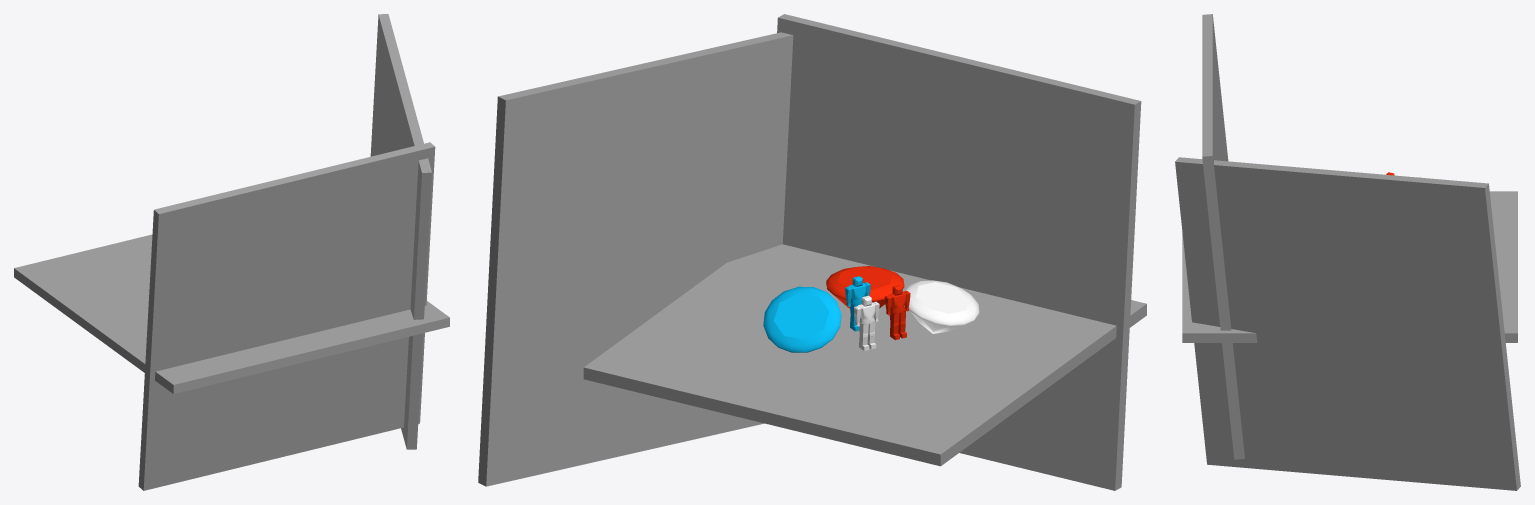
The model's file is MATO_TE.fbx.
The picture shows the model from 3 angles, left to right: view 1: azimuth 30°, elevation 25°; view 2: azimuth 150°, elevation 25°; view 3: azimuth 270°, elevation 25°; orthographic projection. The views are drawn at different scales.
Parts seen in each view (by area): view 1: pCube3, pCube2, pCube4; view 2: pCube4, pCube3, pCube2, pCylinder5, pCylinder4, pCylinder3, pCube6, pCube5; view 3: pCube4, pCube3, pCube2.
Boxes of the visible parts, box(x1,y1,x2,y2) form: pCube3: box(138, 142, 435, 490); pCube2: box(14, 234, 449, 393); pCube4: box(370, 14, 431, 449); pCube4: box(478, 32, 793, 486); pCube3: box(777, 14, 1141, 490); pCube2: box(583, 244, 1146, 466); pCylinder5: box(763, 286, 841, 352); pCylinder4: box(904, 280, 979, 333); pCylinder3: box(826, 266, 904, 308); pCube6: box(854, 295, 879, 350); pCube5: box(884, 285, 910, 340); pCube4: box(1175, 157, 1520, 490); pCube3: box(1202, 14, 1244, 459); pCube2: box(1182, 191, 1517, 342).
Size of the model in its own units: 170 by 140 by 133.
